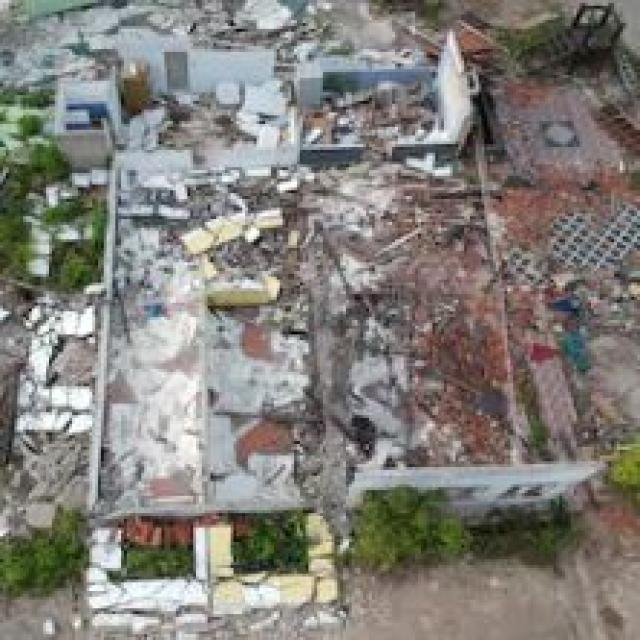collapsed_building: (81, 43, 545, 525)
